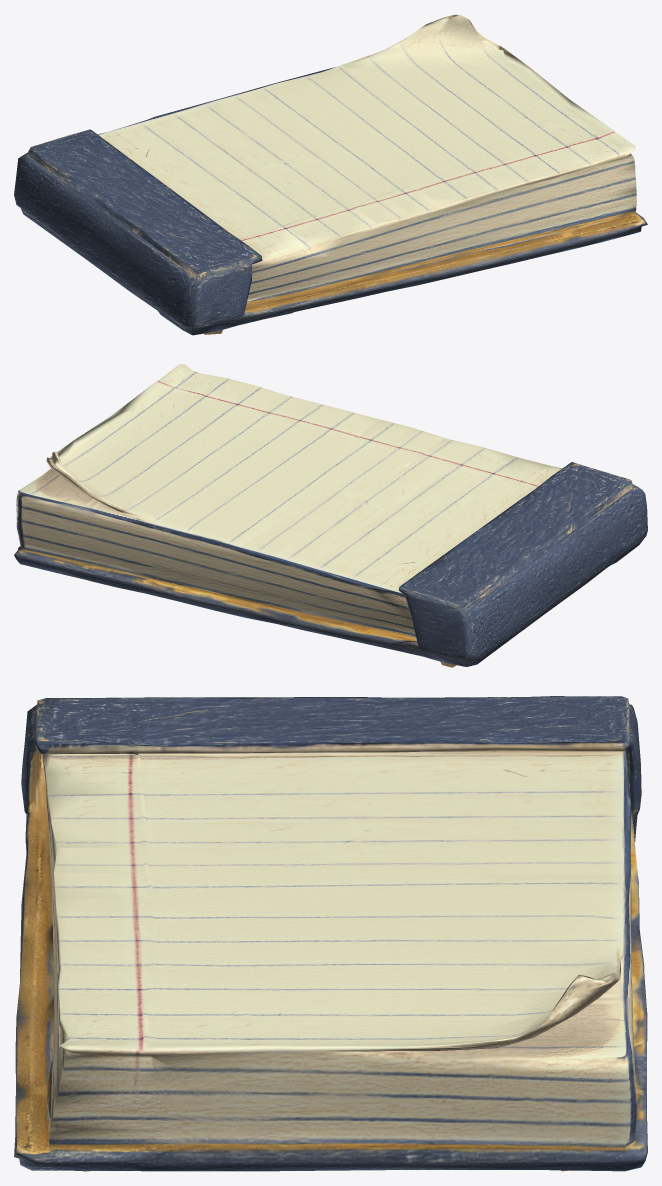
The model's file is DeskNotepad.fbx.
3 renders of one model, top to bottom at view 1: azimuth 30°, elevation 25°; view 2: azimuth 150°, elevation 25°; view 3: azimuth 270°, elevation 25°, orthographic. The views are drawn at different scales.
Visible parts, largest first — view 1: tripo_node_4b680f98-77f0-45f5-ac6a-9a4335bb8edd; view 2: tripo_node_4b680f98-77f0-45f5-ac6a-9a4335bb8edd; view 3: tripo_node_4b680f98-77f0-45f5-ac6a-9a4335bb8edd.
Boxes of the visible parts, left/top/right/bottom form: tripo_node_4b680f98-77f0-45f5-ac6a-9a4335bb8edd: left=14, top=14, right=647, bottom=335; tripo_node_4b680f98-77f0-45f5-ac6a-9a4335bb8edd: left=14, top=364, right=647, bottom=667; tripo_node_4b680f98-77f0-45f5-ac6a-9a4335bb8edd: left=14, top=696, right=647, bottom=1171.
Size of the model in its own units: 100 by 24.31 by 69.3.
Materials: 1 (1 with a texture image).
